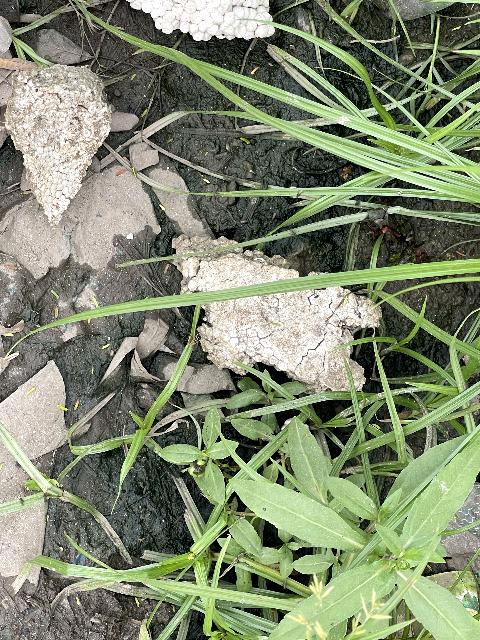cocksheet: (172, 221, 390, 407), (9, 53, 104, 197), (135, 1, 278, 42)
